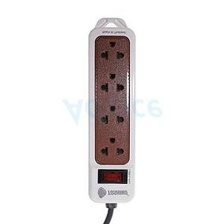three_eye_plug: (81, 20, 141, 210)
